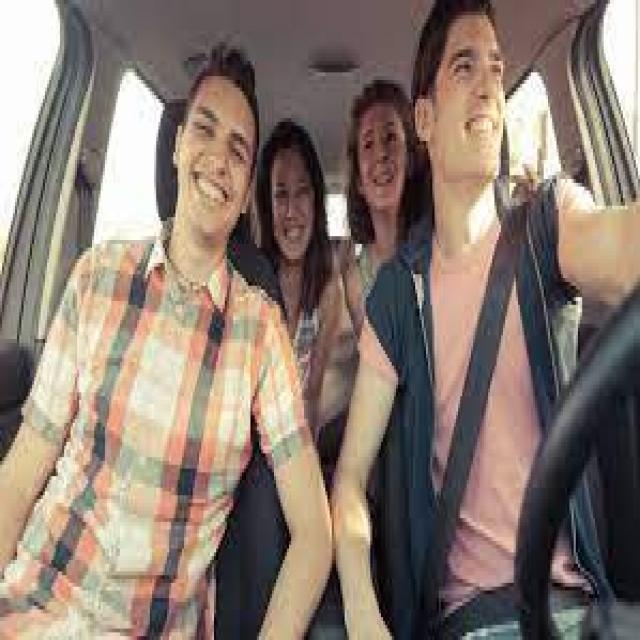seatbelt: (415, 144, 533, 636)
